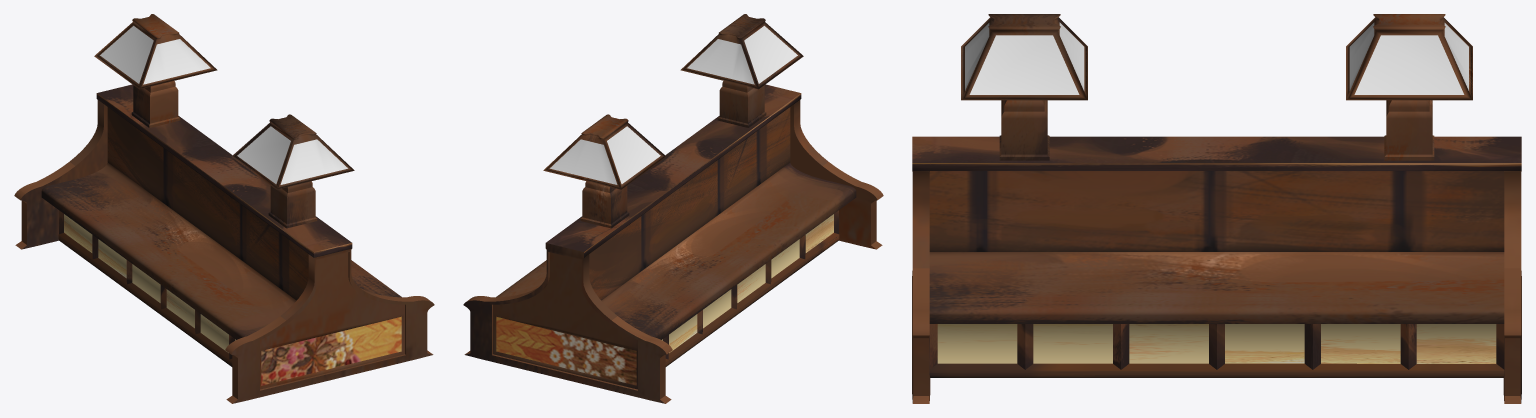
File: benches.fbx
The picture shows the model from 3 angles, left to right: view 1: azimuth 30°, elevation 25°; view 2: azimuth 150°, elevation 25°; view 3: azimuth 270°, elevation 25°; orthographic projection. The views are drawn at different scales.
Visible parts, largest first — view 1: benches__29_, Cube_001, Cube_003, Cube_002; view 2: benches__29_, Cube_001, Cube_003, Cube_002; view 3: benches__29_, Cube_001, Cube_003, Cube_002.
Boxes of the visible parts, x1=… form: benches__29_: x1=41, y1=107, x2=401, y2=385; Cube_001: x1=14, y1=84, x2=434, y2=403; Cube_003: x1=94, y1=14, x2=354, y2=189; Cube_002: x1=131, y1=81, x2=317, y2=228; benches__29_: x1=496, y1=107, x2=856, y2=385; Cube_001: x1=463, y1=84, x2=883, y2=403; Cube_003: x1=543, y1=14, x2=803, y2=189; Cube_002: x1=580, y1=81, x2=766, y2=228; benches__29_: x1=929, y1=171, x2=1504, y2=377; Cube_001: x1=912, y1=136, x2=1521, y2=403; Cube_003: x1=961, y1=14, x2=1472, y2=100; Cube_002: x1=999, y1=100, x2=1434, y2=160.
Size of the model in its own units: 326 by 343 by 603.
